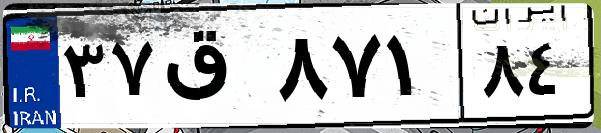1: (385, 28, 445, 110)
3: (57, 26, 110, 100)
4: (525, 38, 570, 115)
7: (330, 28, 385, 110), (110, 28, 158, 98)
8: (270, 28, 330, 110), (475, 38, 525, 113)
ق: (158, 20, 270, 120)
